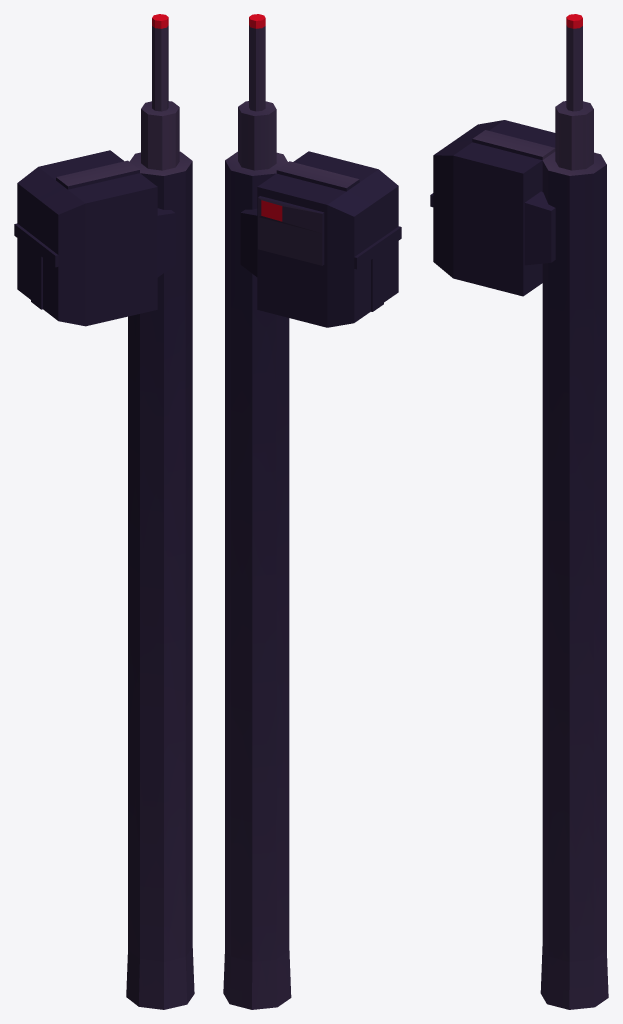
Rendered from Building_SignalTower.fbx.
3 renders of one model, left to right at view 1: azimuth 30°, elevation 25°; view 2: azimuth 150°, elevation 25°; view 3: azimuth 330°, elevation 25°, orthographic.
Visible parts, largest first — view 1: Cylinder; view 2: Cylinder; view 3: Cylinder.
Part boxes in pixels (left/top/right/bottom): Cylinder: left=14, top=14, right=194, bottom=1009; Cylinder: left=223, top=14, right=401, bottom=1009; Cylinder: left=430, top=14, right=608, bottom=1009.
Size of the model in its own units: 177 by 1088 by 106.
